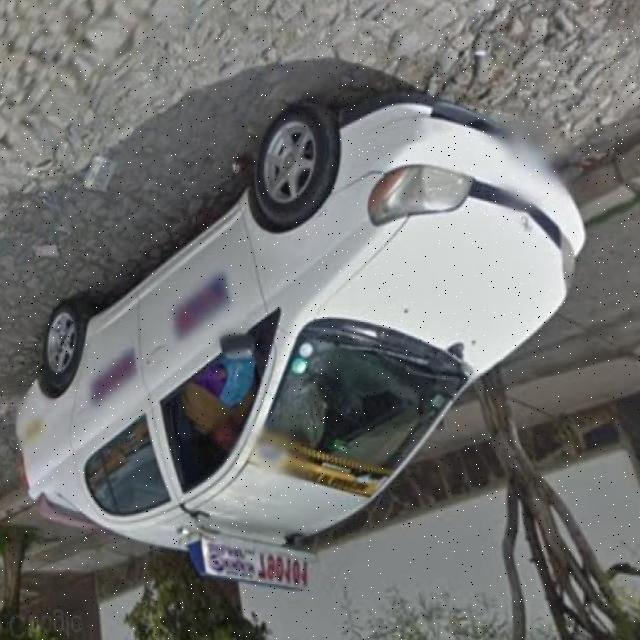car: (30, 98, 581, 569)
